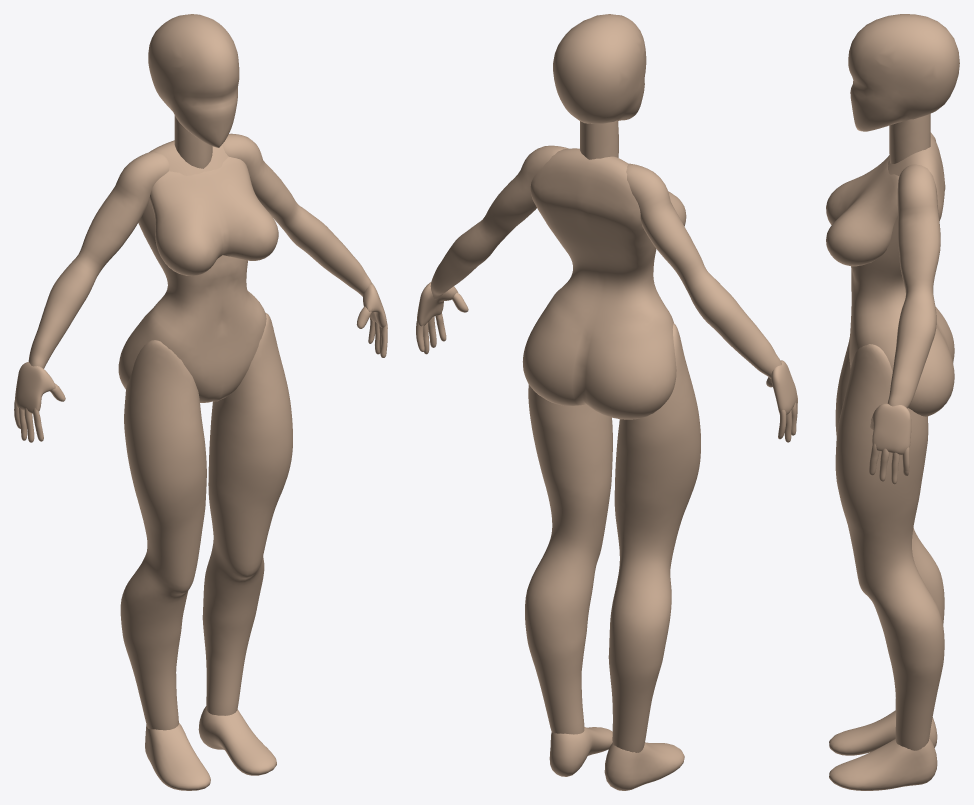
File: medium-medium.glb
3 views of the same model, side by side, from view 1: azimuth 30°, elevation 25°; view 2: azimuth 150°, elevation 25°; view 3: azimuth 270°, elevation 25° (orthographic). The views are drawn at different scales.
Visible parts, largest first — view 1: FEMALE BODY TYPE 1_FEMALE BODY TYPE 1_0; view 2: FEMALE BODY TYPE 1_FEMALE BODY TYPE 1_0; view 3: FEMALE BODY TYPE 1_FEMALE BODY TYPE 1_0.
Boxes of the visible parts, x1,y1,x2,y2 form: FEMALE BODY TYPE 1_FEMALE BODY TYPE 1_0: [14, 14, 387, 790]; FEMALE BODY TYPE 1_FEMALE BODY TYPE 1_0: [416, 14, 797, 790]; FEMALE BODY TYPE 1_FEMALE BODY TYPE 1_0: [826, 14, 959, 790].
Bounding box in the file's own units: 0.8632 × 1.68 × 0.2718.
